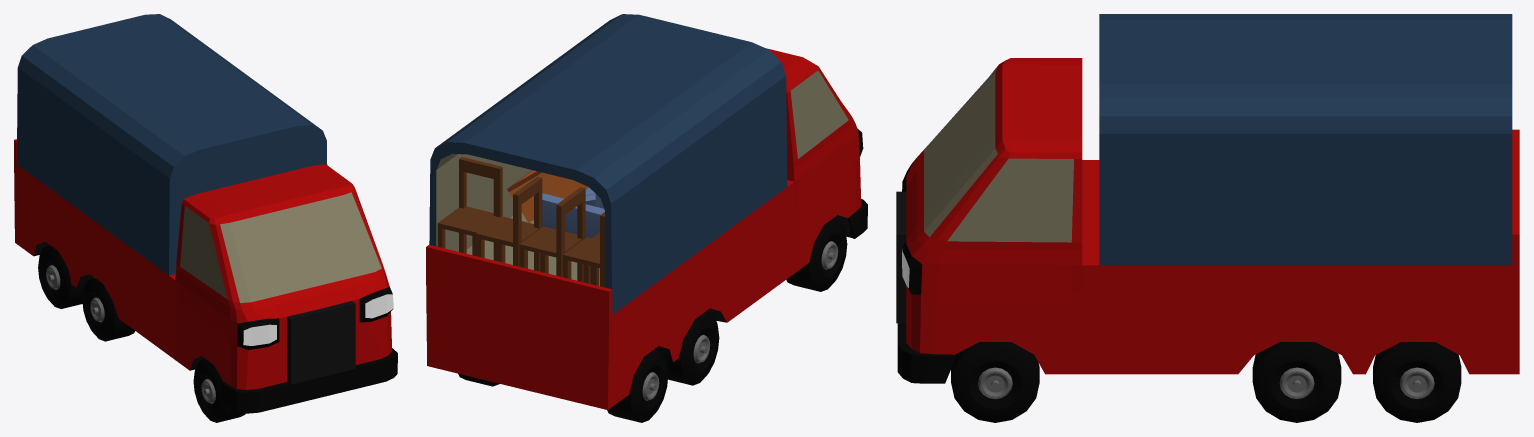
Rendered from car.fbx.
The picture shows the model from 3 angles, left to right: view 1: azimuth 30°, elevation 25°; view 2: azimuth 150°, elevation 25°; view 3: azimuth 270°, elevation 25°; orthographic projection. The views are drawn at different scales.
Visible parts, largest first — view 1: Cube.013; view 2: Cube.013; view 3: Cube.013.
Part boxes in pixels (bbox=[...]): Cube.013: bbox=[14, 14, 397, 422]; Cube.013: bbox=[426, 14, 867, 422]; Cube.013: bbox=[896, 14, 1519, 422].
Bounding box in the file's own units: 300 × 413 × 730.
